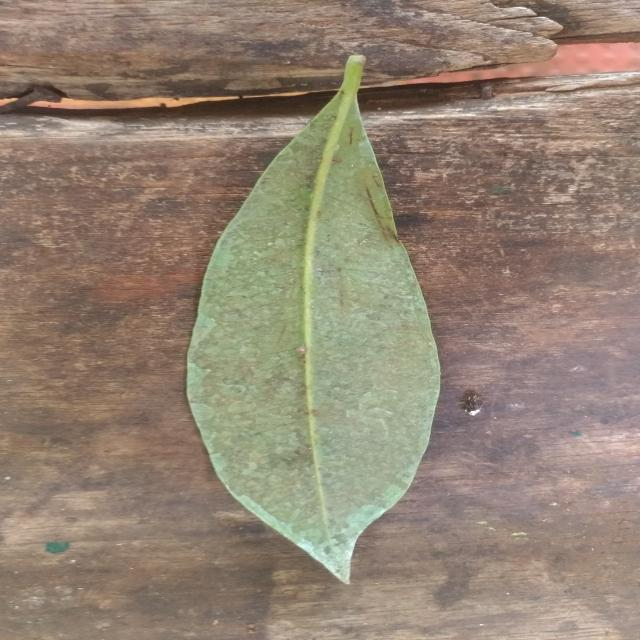nerale: (187, 55, 440, 582)
